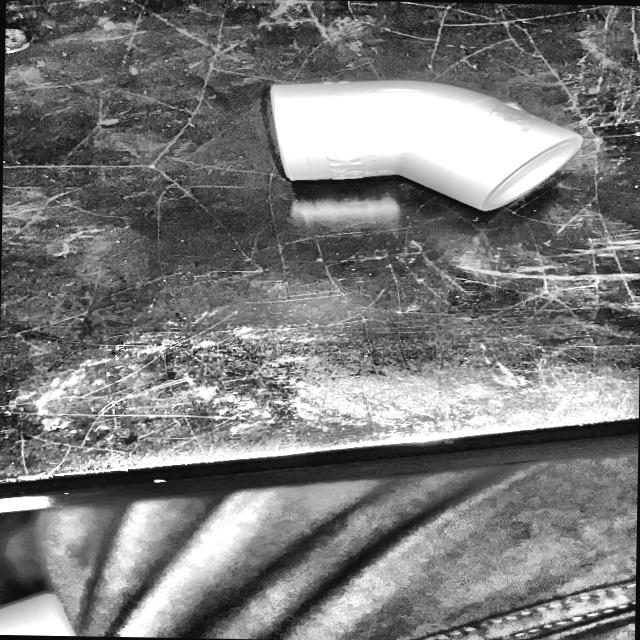ELBOW45: (268, 80, 582, 214)
